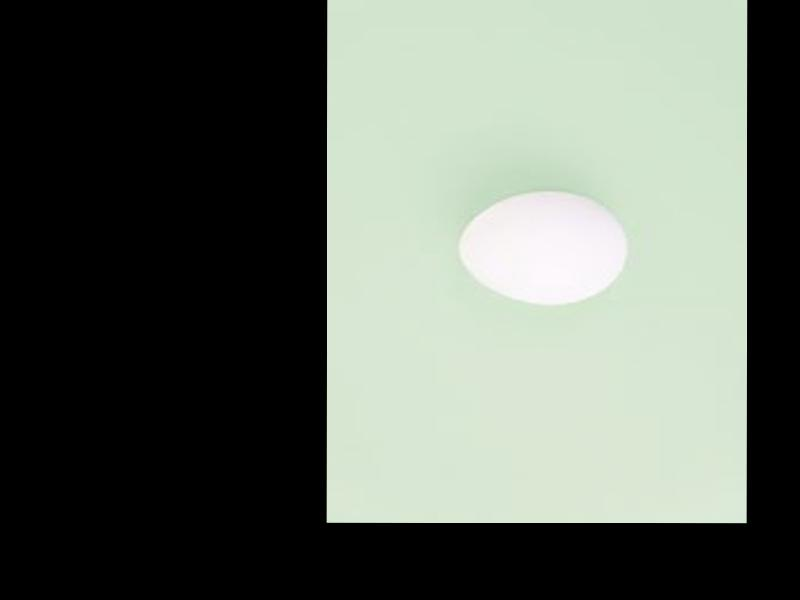Eggs: (458, 189, 629, 305)
